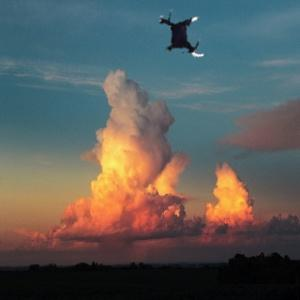drone: (153, 3, 217, 67)
